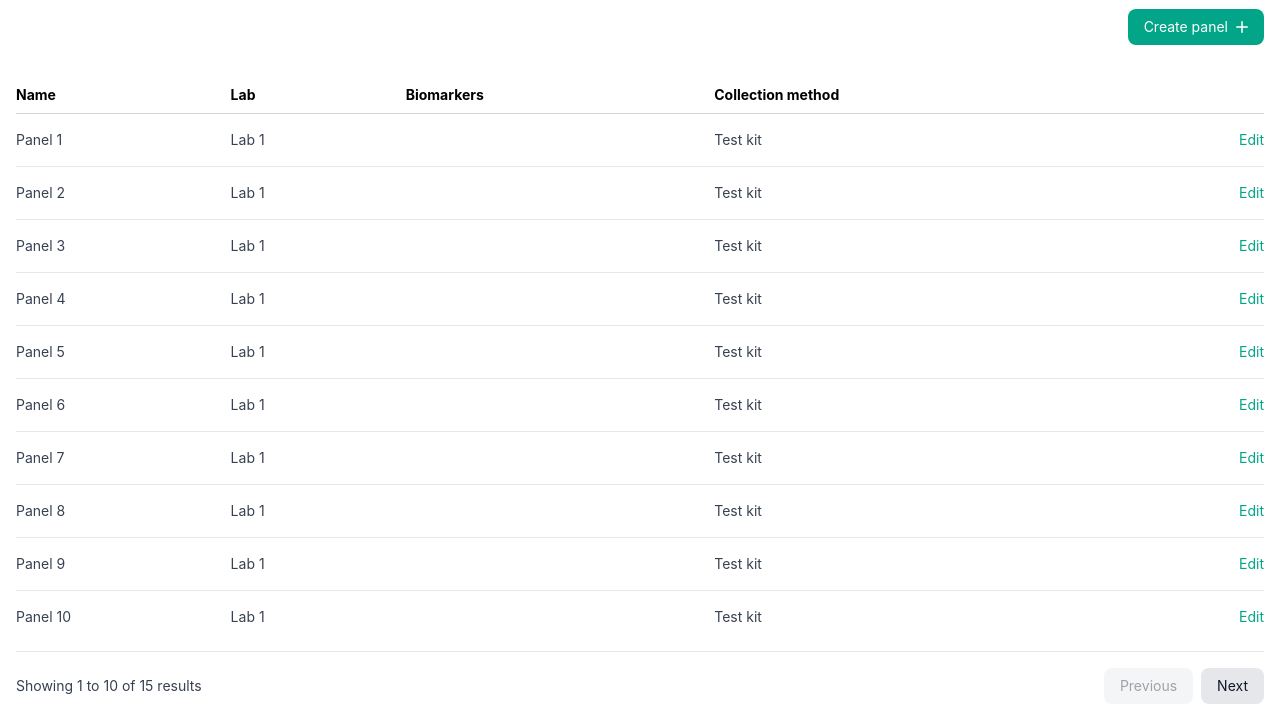
Test: Panels Component › handles pagination correctly
The image size is (1280, 720).
(page scrolled)
Expected: the text "Panel 1" is shown, left=16, top=114, right=219, bottom=166
Expected: the text "Panel 11" is not shown
What coordinates should you click on to do the following:
click the button "Next"
I would click on:
 (1233, 686)
Its box is left=1201, top=668, right=1264, bottom=704.
(page scrolled)
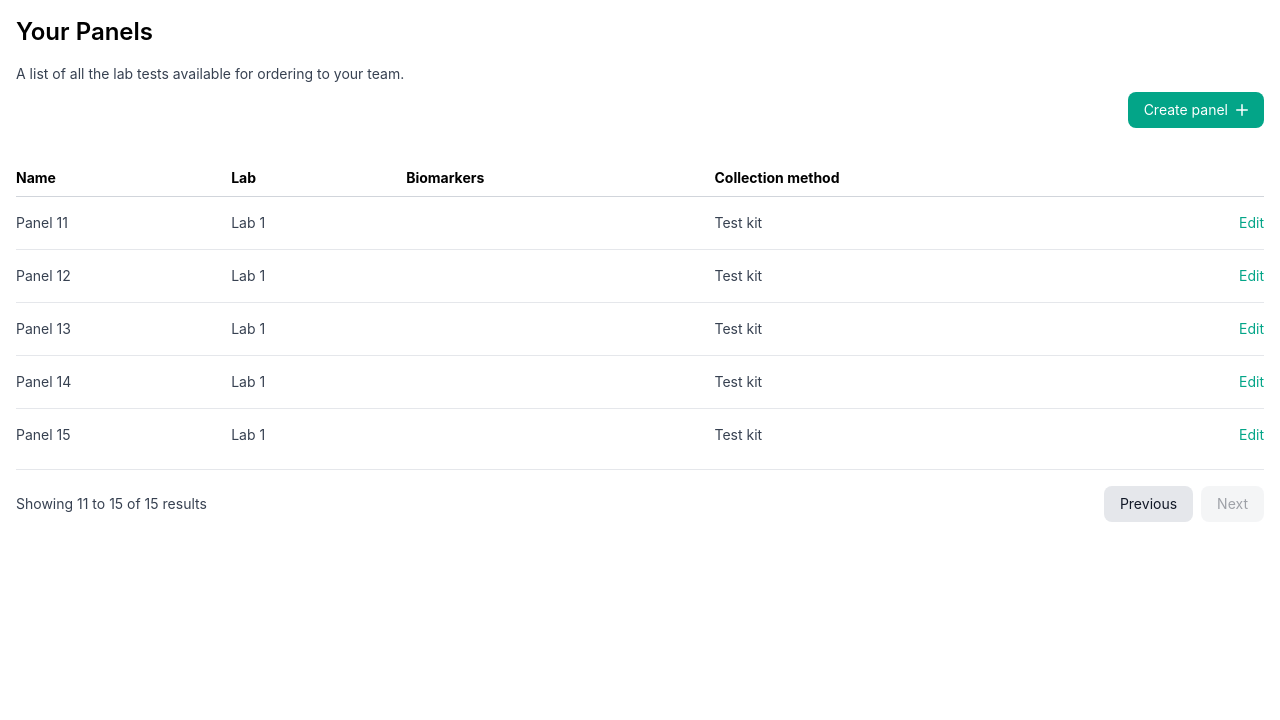
Now the text "Panel 11" is shown, box left=16, top=196, right=219, bottom=250
